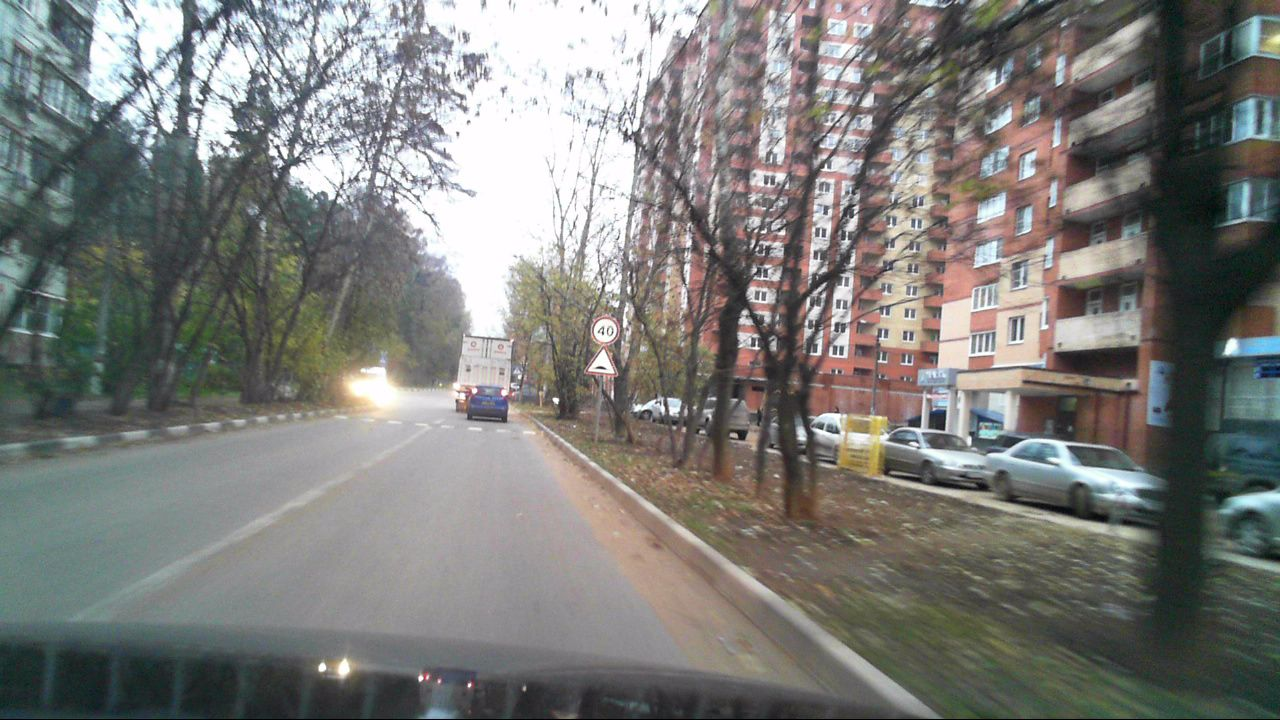speed_warning_40: (591, 316, 617, 344)
